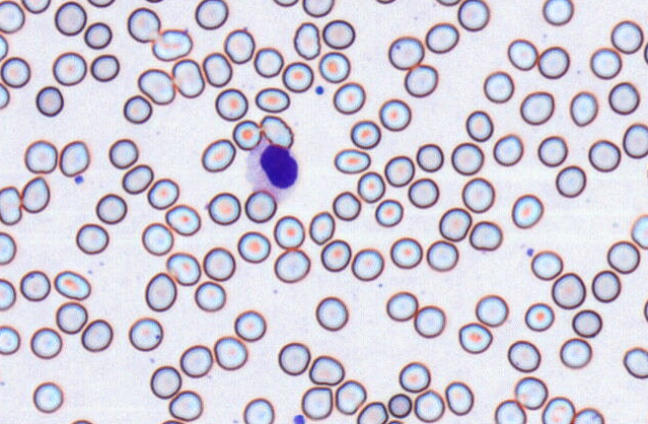MONO: (245, 141, 300, 202)
PLT: (292, 414, 308, 424), (314, 85, 326, 97), (526, 246, 535, 258), (75, 175, 84, 184)
RBC: (137, 68, 175, 104), (151, 28, 192, 61), (171, 58, 204, 98), (273, 248, 310, 283), (387, 35, 424, 70), (144, 272, 177, 311), (551, 272, 585, 309), (519, 90, 554, 125), (166, 251, 201, 285), (213, 335, 247, 370), (128, 317, 163, 351), (461, 177, 494, 213), (223, 27, 255, 64), (201, 138, 235, 172), (259, 115, 293, 149), (214, 87, 248, 121), (207, 191, 241, 225), (52, 51, 86, 85), (202, 246, 235, 281), (127, 7, 160, 42), (315, 296, 348, 331), (24, 139, 57, 174), (334, 379, 366, 415), (59, 140, 90, 177), (53, 270, 91, 300), (351, 247, 384, 281), (606, 240, 640, 273), (277, 341, 310, 375), (438, 207, 471, 241), (404, 64, 438, 97), (450, 141, 483, 175), (179, 344, 213, 377), (165, 204, 200, 236), (511, 193, 543, 228), (20, 176, 50, 213), (237, 230, 270, 263), (514, 376, 547, 409), (588, 139, 621, 172), (475, 294, 508, 327), (507, 339, 540, 372), (610, 20, 643, 53), (378, 98, 411, 131), (149, 365, 181, 399), (273, 215, 305, 249), (81, 318, 113, 352), (458, 322, 492, 354), (244, 189, 276, 223), (413, 304, 445, 338), (54, 1, 86, 35), (537, 45, 569, 79), (168, 390, 203, 421), (308, 355, 344, 385), (202, 51, 232, 87), (55, 301, 87, 334), (141, 222, 173, 255), (301, 386, 333, 419), (589, 47, 622, 79), (332, 82, 365, 114), (425, 22, 459, 53), (608, 81, 639, 115), (293, 21, 320, 59), (318, 51, 350, 83), (390, 236, 422, 268), (426, 239, 458, 271), (147, 177, 179, 209), (234, 309, 266, 341), (30, 327, 62, 359), (320, 239, 351, 272), (75, 223, 108, 254), (469, 220, 502, 251), (413, 389, 444, 422), (559, 337, 592, 368), (492, 133, 523, 166), (483, 70, 514, 103), (444, 380, 473, 415), (569, 91, 598, 126), (407, 177, 439, 208), (194, 280, 226, 311), (121, 163, 153, 194), (555, 165, 586, 197), (398, 361, 430, 392), (457, 0, 489, 31), (507, 38, 538, 70), (95, 193, 127, 224), (32, 381, 63, 413), (530, 250, 563, 280), (591, 269, 621, 302), (322, 19, 355, 49), (194, 0, 228, 29), (333, 148, 370, 174), (19, 270, 50, 301), (282, 61, 313, 92), (384, 155, 414, 187), (537, 135, 567, 167), (386, 291, 417, 321), (0, 56, 30, 87), (350, 119, 381, 149), (253, 46, 283, 77), (108, 138, 138, 169), (356, 171, 385, 203), (255, 87, 290, 113), (622, 123, 648, 158), (232, 119, 261, 150), (465, 109, 493, 141), (308, 211, 335, 244), (541, 396, 574, 423), (0, 185, 22, 225), (332, 190, 361, 220), (524, 302, 554, 331), (123, 94, 152, 124), (571, 309, 602, 337), (35, 85, 63, 116), (374, 198, 403, 227), (90, 53, 119, 81), (83, 21, 112, 49), (415, 143, 443, 172), (243, 397, 274, 423), (542, 0, 574, 25), (0, 0, 24, 33), (494, 399, 526, 423), (623, 346, 647, 378), (356, 401, 388, 423), (387, 392, 412, 418), (0, 325, 20, 354), (631, 214, 647, 249), (302, 0, 334, 17), (0, 231, 16, 265), (571, 407, 604, 423), (0, 278, 16, 310), (21, 0, 50, 13), (0, 82, 9, 109), (87, 0, 115, 8), (0, 33, 8, 60), (273, 0, 298, 7), (436, 0, 460, 6), (643, 298, 648, 322), (160, 418, 184, 423), (69, 418, 93, 423), (643, 41, 648, 64), (386, 418, 404, 424), (644, 158, 648, 184), (375, 0, 396, 4), (144, 0, 164, 3)
